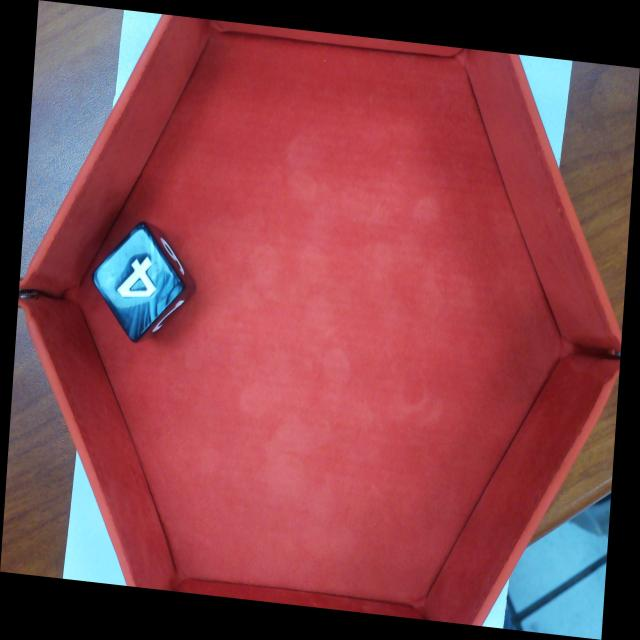dice: (88, 219, 187, 347)
